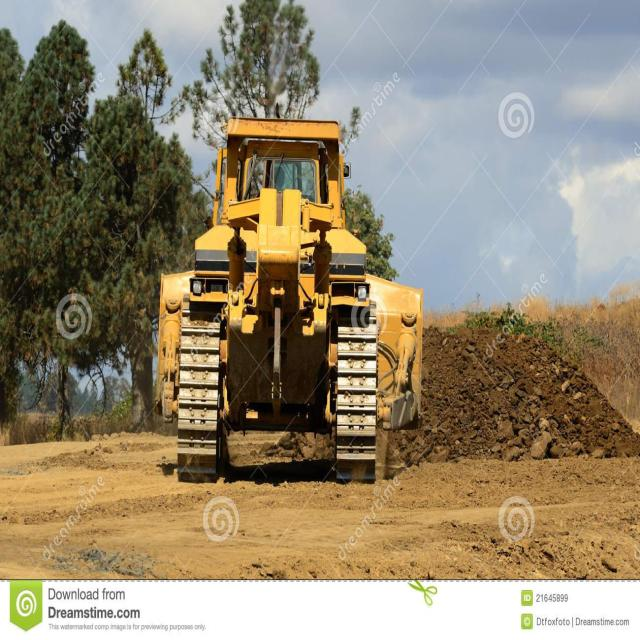buldozerpayloadergrader: (138, 80, 443, 514)
